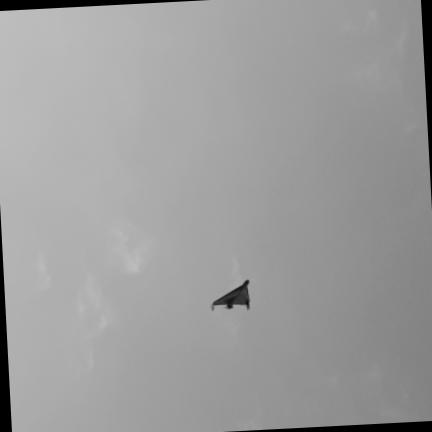Shahed: (211, 281, 248, 310)
